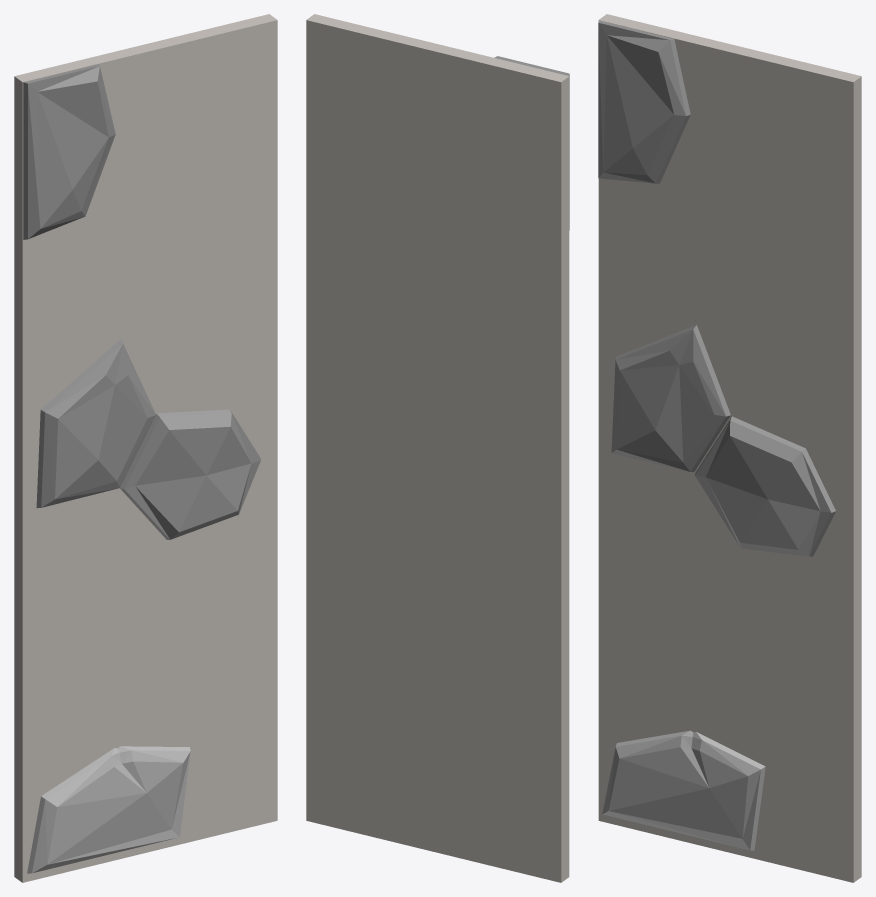
File: _WALL_03_1.fbx
3 renders of one model, left to right at view 1: azimuth 30°, elevation 25°; view 2: azimuth 150°, elevation 25°; view 3: azimuth 330°, elevation 25°, orthographic.
Parts seen in each view (by area): view 1: WALL_03_1; view 2: WALL_03_1; view 3: WALL_03_1.
Part boxes in pixels (x1,y1,x2,y2): WALL_03_1: [14, 14, 277, 882]; WALL_03_1: [306, 14, 569, 882]; WALL_03_1: [598, 14, 861, 882].
Bounding box in the file's own units: 100 × 300 × 12.
